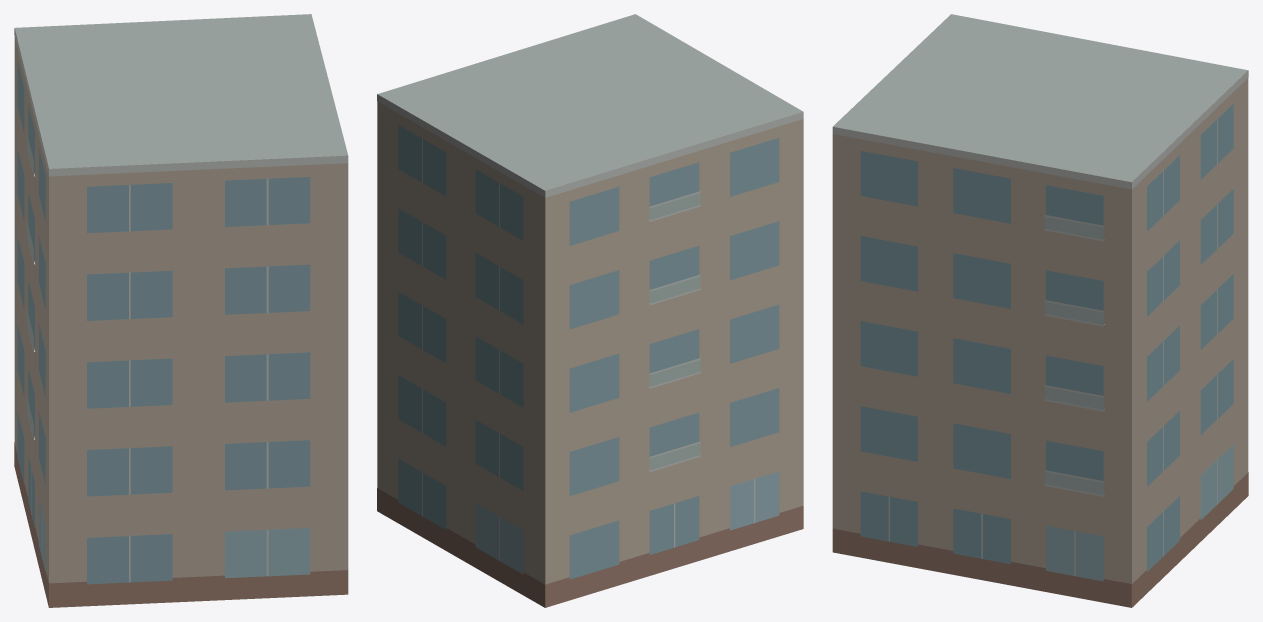
The model's file is survey-upis-32531512.glb.
3 views of the same model, side by side, from view 1: azimuth 30°, elevation 25°; view 2: azimuth 150°, elevation 25°; view 3: azimuth 270°, elevation 25° (orthographic). The views are drawn at different scales.
Parts seen in each view (by area): view 1: survey-upis-32531512.tmp; view 2: survey-upis-32531512.tmp; view 3: survey-upis-32531512.tmp.
Part boxes in pixels (bbox=[...]): survey-upis-32531512.tmp: bbox=[14, 14, 348, 607]; survey-upis-32531512.tmp: bbox=[377, 14, 803, 607]; survey-upis-32531512.tmp: bbox=[832, 14, 1248, 607].
Size of the model in its own units: 12.13 by 14.3 by 12.67.
